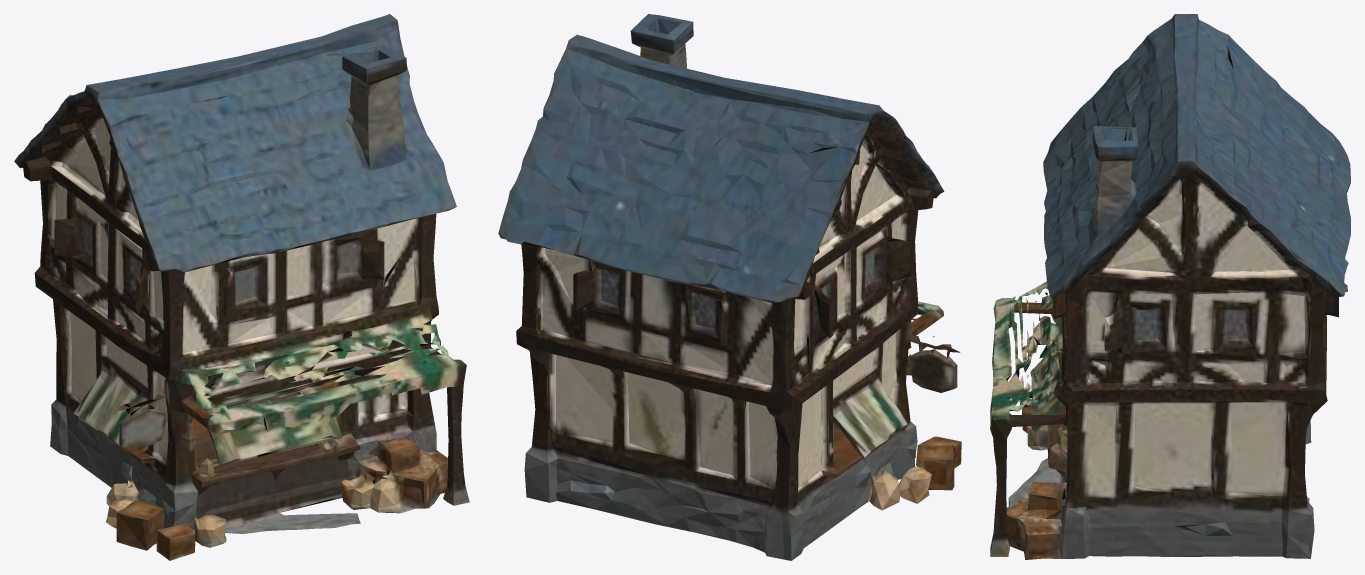
Rendered from house_trader_lod1.glb.
3 views of the same model, side by side, from view 1: azimuth 30°, elevation 25°; view 2: azimuth 150°, elevation 25°; view 3: azimuth 270°, elevation 25° (orthographic).
Visible parts, largest first — view 1: lod; view 2: lod; view 3: lod.
Part boxes in pixels (bbox=[...]): lod: bbox=[14, 14, 469, 560]; lod: bbox=[498, 14, 961, 560]; lod: bbox=[990, 14, 1350, 559].
Bounding box in the file's own units: 1.61 × 1.9 × 1.51.
1 material, 1 textured.
